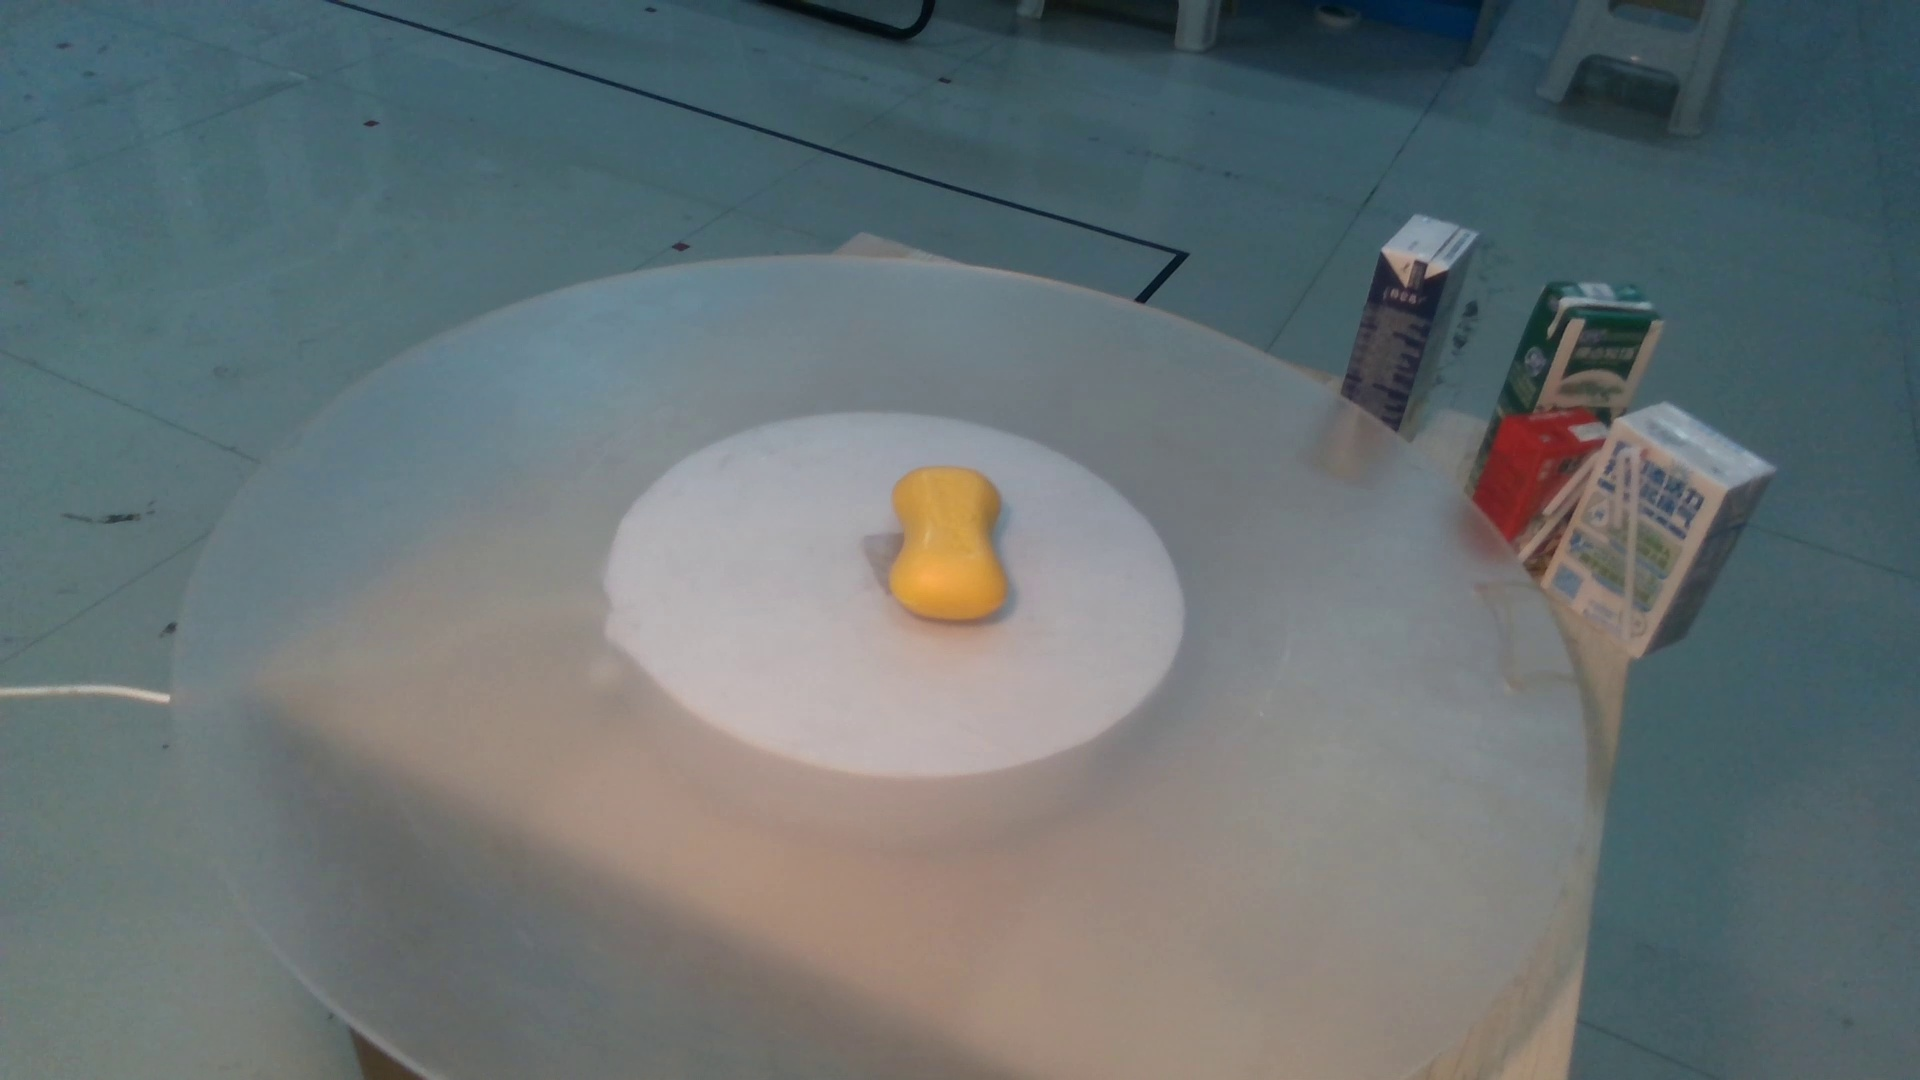CA003_1: (870, 459, 1029, 638)
